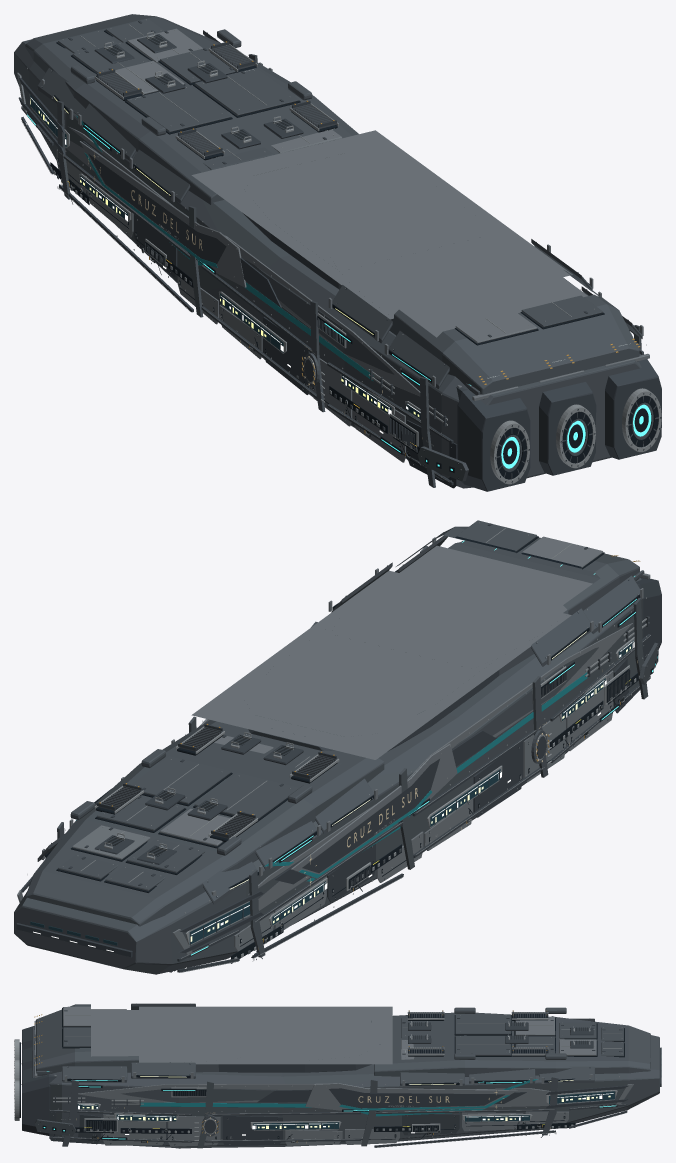
Rendered from cruz-del-sur-player-hull.glb.
3 views of the same model, one above another, from view 1: azimuth 30°, elevation 25°; view 2: azimuth 150°, elevation 25°; view 3: azimuth 270°, elevation 25° (orthographic). The views are drawn at different scales.
Visible parts, largest first — view 1: PLAYER_SHIP_HULL_2, PLAYER_SHIP_HULL_12, PLAYER_SHIP_HULL_3, PLAYER_SHIP_HULL_4, PLAYER_SHIP_HULL_7, PLAYER_SHIP_HULL_10, PLAYER_SHIP_HULL_9, PLAYER_SHIP_HULL_5; view 2: PLAYER_SHIP_HULL_2, PLAYER_SHIP_HULL_12, PLAYER_SHIP_HULL_3, PLAYER_SHIP_HULL_4, PLAYER_SHIP_HULL_7, PLAYER_SHIP_HULL_10, PLAYER_SHIP_HULL_9; view 3: PLAYER_SHIP_HULL_2, PLAYER_SHIP_HULL_12, PLAYER_SHIP_HULL_3, PLAYER_SHIP_HULL_7, PLAYER_SHIP_HULL_4, PLAYER_SHIP_HULL_10, PLAYER_SHIP_HULL_9, PLAYER_SHIP_HULL_14, PLAYER_SHIP_HULL_13, PLAYER_SHIP_HULL_5, PLAYER_SHIP_HULL_6.
Boxes of the visible parts, x1,y1,x2,y2 form: PLAYER_SHIP_HULL_2: [14, 14, 658, 488]; PLAYER_SHIP_HULL_12: [17, 28, 649, 462]; PLAYER_SHIP_HULL_3: [18, 20, 661, 491]; PLAYER_SHIP_HULL_4: [27, 30, 661, 484]; PLAYER_SHIP_HULL_7: [21, 19, 661, 484]; PLAYER_SHIP_HULL_10: [30, 95, 420, 418]; PLAYER_SHIP_HULL_9: [76, 115, 373, 381]; PLAYER_SHIP_HULL_5: [27, 114, 651, 470]; PLAYER_SHIP_HULL_2: [14, 520, 658, 974]; PLAYER_SHIP_HULL_12: [17, 536, 650, 954]; PLAYER_SHIP_HULL_3: [16, 523, 661, 972]; PLAYER_SHIP_HULL_4: [45, 536, 657, 963]; PLAYER_SHIP_HULL_7: [27, 522, 658, 972]; PLAYER_SHIP_HULL_10: [30, 640, 633, 945]; PLAYER_SHIP_HULL_9: [76, 672, 587, 881]; PLAYER_SHIP_HULL_2: [32, 1003, 659, 1148]; PLAYER_SHIP_HULL_12: [34, 1006, 633, 1146]; PLAYER_SHIP_HULL_3: [21, 1010, 661, 1148]; PLAYER_SHIP_HULL_7: [14, 1012, 625, 1147]; PLAYER_SHIP_HULL_4: [19, 1007, 624, 1145]; PLAYER_SHIP_HULL_10: [77, 1048, 661, 1129]; PLAYER_SHIP_HULL_9: [140, 1079, 537, 1116]; PLAYER_SHIP_HULL_14: [78, 1055, 661, 1135]; PLAYER_SHIP_HULL_13: [82, 1076, 610, 1128]; PLAYER_SHIP_HULL_5: [43, 1071, 616, 1139]; PLAYER_SHIP_HULL_6: [76, 1090, 550, 1143].
Bounding box in the file's own units: 16.06 × 10.44 × 59.83.
